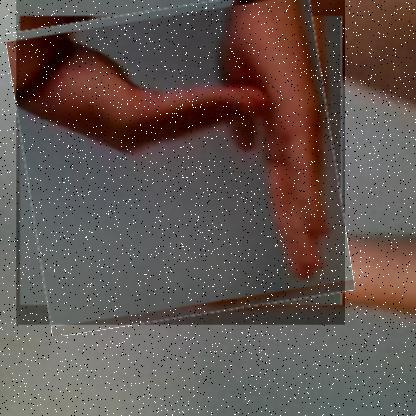Z: (15, 0, 345, 326)
